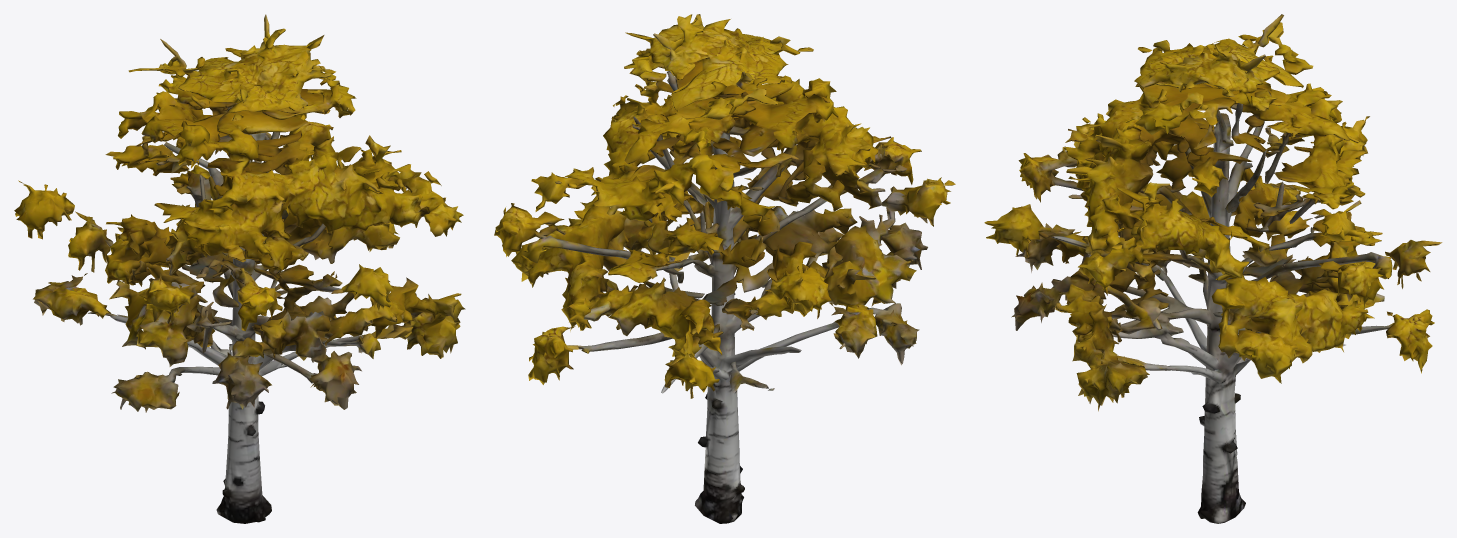
File: nature-tree-birch.glb
3 renders of one model, left to right at view 1: azimuth 30°, elevation 25°; view 2: azimuth 150°, elevation 25°; view 3: azimuth 270°, elevation 25°, orthographic. The views are drawn at different scales.
Parts seen in each view (by area): view 1: tripo_node_4dc759a4-ff45-4c02-9563-e6748d52bd1b; view 2: tripo_node_4dc759a4-ff45-4c02-9563-e6748d52bd1b; view 3: tripo_node_4dc759a4-ff45-4c02-9563-e6748d52bd1b.
Boxes of the visible parts, x1,y1,x2,y2 form: tripo_node_4dc759a4-ff45-4c02-9563-e6748d52bd1b: [14, 14, 465, 523]; tripo_node_4dc759a4-ff45-4c02-9563-e6748d52bd1b: [494, 14, 955, 523]; tripo_node_4dc759a4-ff45-4c02-9563-e6748d52bd1b: [984, 14, 1442, 523].
Bounding box in the file's own units: 6.24 × 8 × 6.85.
Materials: 1 (1 with a texture image).
